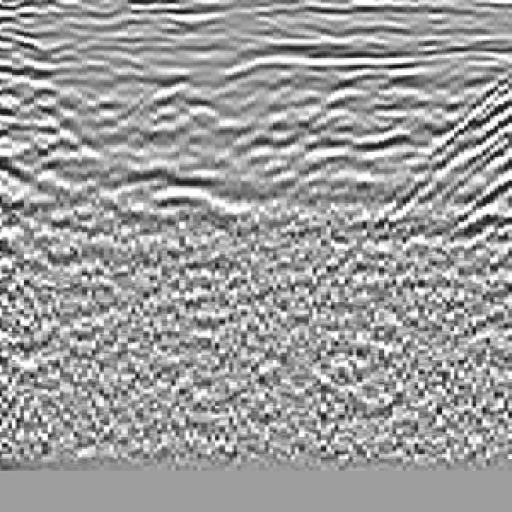metalic: (97, 46, 282, 259)
nonmetalic: (357, 48, 512, 299)
